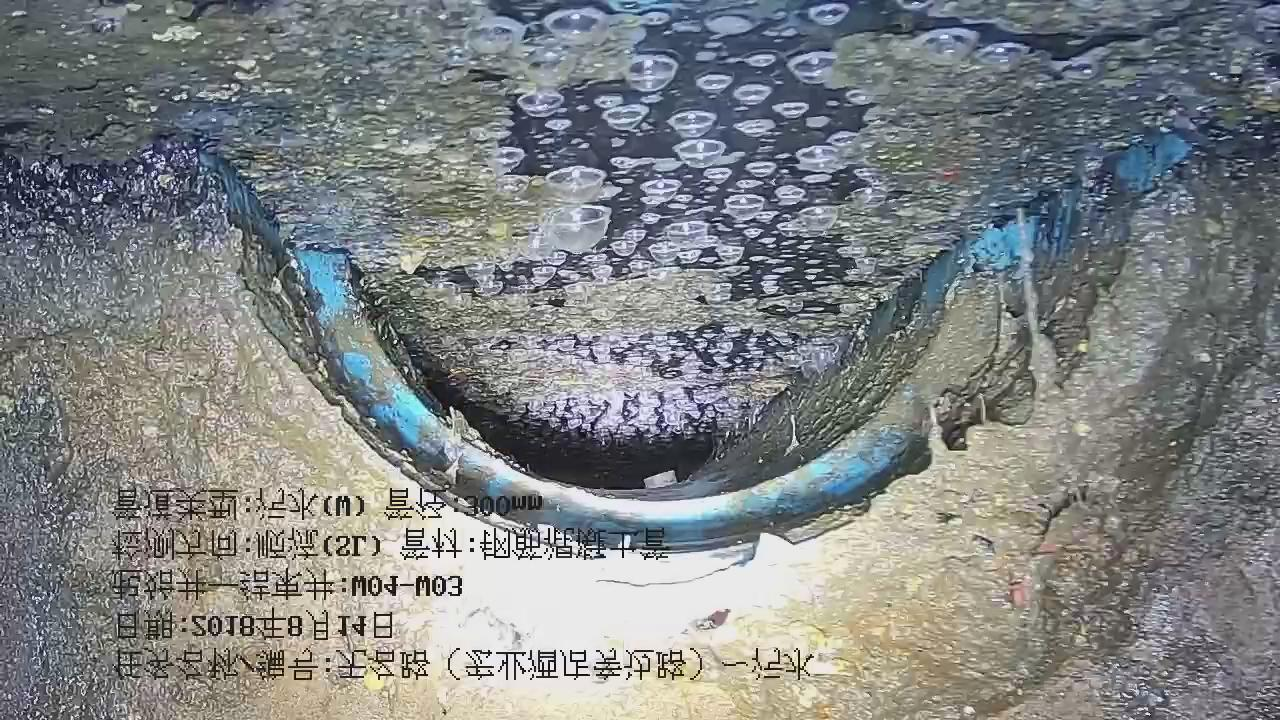FZ: (0, 1, 1279, 486)
